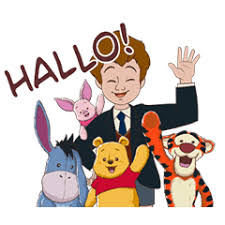Winnie: (91, 137, 140, 189)
